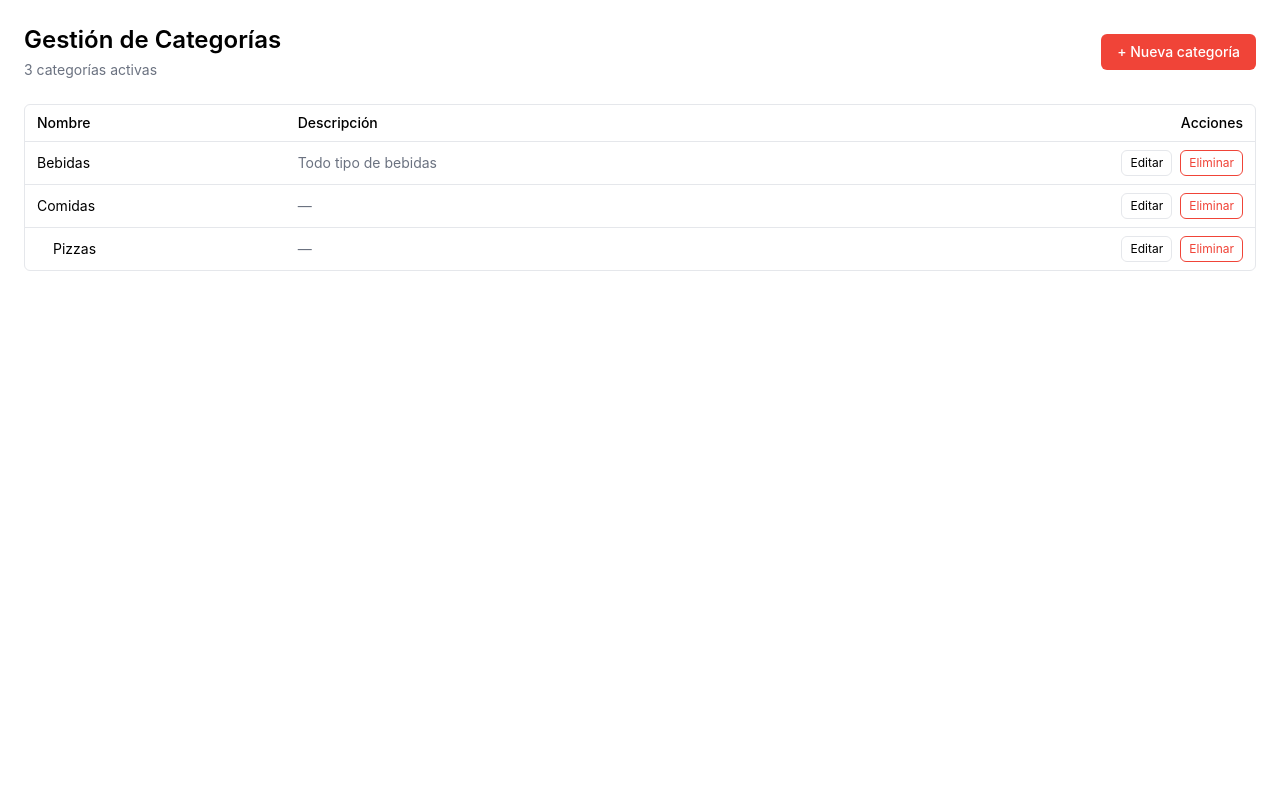
Test: StockCategoriesPage › opens edit modal with pre-populated name when "Editar" is clicked
Step 1. Click the button "Editar" in the row of "Todo tipo de bebidas" → point(1147, 163), box [1122, 150, 1172, 176]
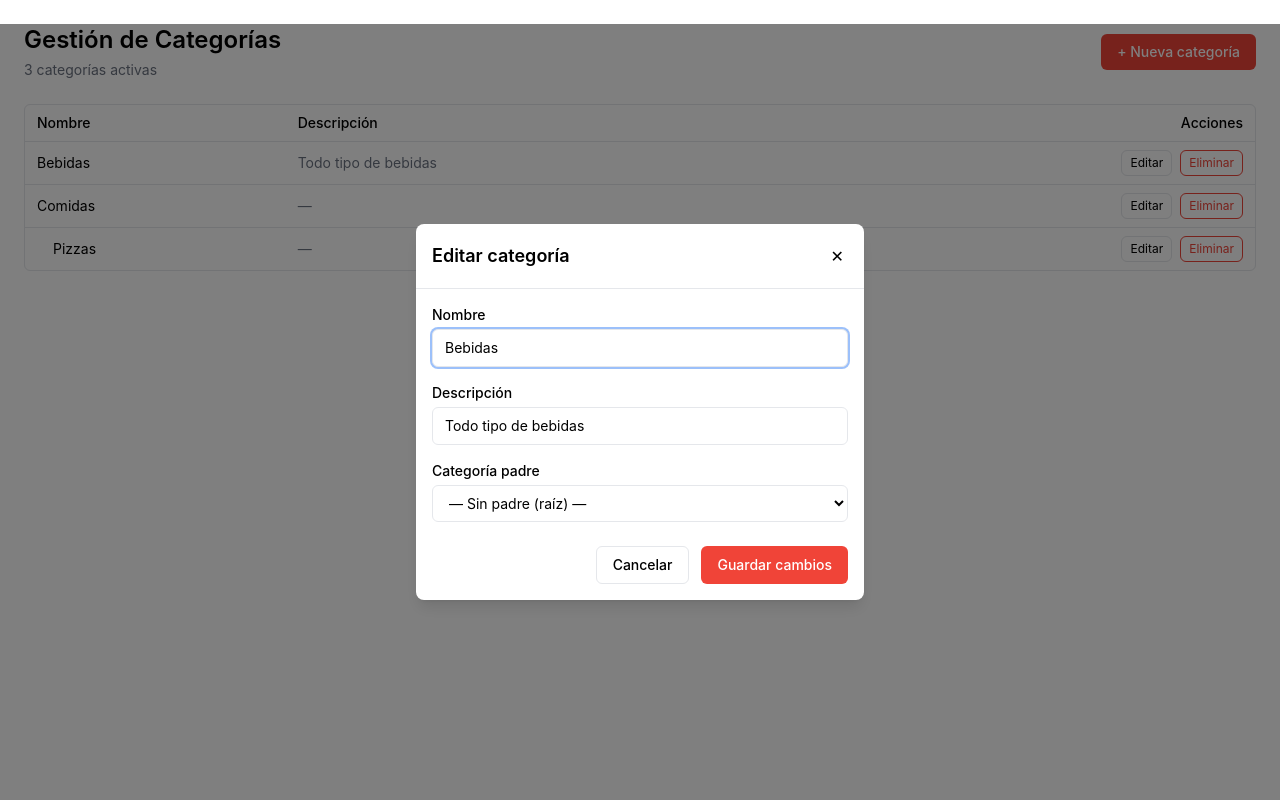
Now the dialog is shown
Now the field labelled "Nombre" holds "Bebidas", box [432, 329, 848, 367]
